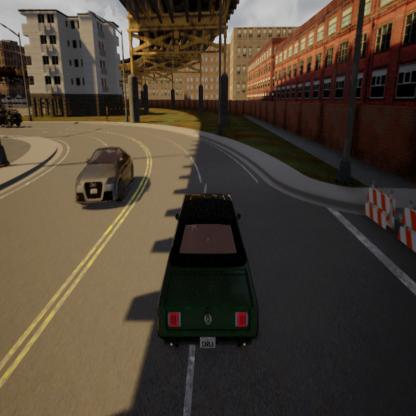Cars: (152, 187, 267, 359), (73, 140, 137, 209), (0, 105, 24, 132)
Pedestrian: (101, 104, 112, 126)
